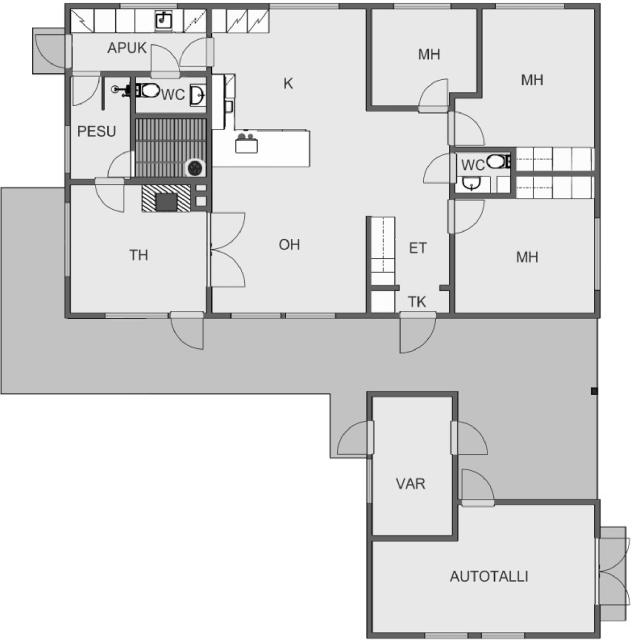door: (202, 205, 251, 292), (592, 527, 636, 611), (444, 98, 494, 148), (25, 27, 72, 80), (330, 417, 378, 468), (136, 40, 190, 84), (396, 304, 439, 359), (442, 192, 496, 235), (419, 138, 459, 196), (168, 304, 211, 356), (456, 462, 501, 511), (447, 418, 496, 462), (411, 66, 452, 116), (167, 33, 216, 71), (99, 132, 137, 180), (87, 176, 131, 216), (69, 68, 105, 112)
window: (224, 306, 338, 328), (587, 210, 610, 300), (95, 304, 175, 329), (486, 1, 578, 20), (418, 625, 530, 640), (268, 1, 347, 19), (61, 115, 79, 193), (59, 196, 74, 284), (386, 0, 463, 17), (114, 0, 187, 15), (361, 454, 379, 509)
zone: (202, 7, 371, 311), (363, 494, 604, 640), (63, 178, 214, 320), (455, 3, 602, 148), (444, 192, 599, 312), (363, 5, 485, 115), (366, 394, 456, 536), (69, 4, 210, 76), (132, 70, 210, 178), (67, 72, 134, 180), (457, 144, 518, 197)
